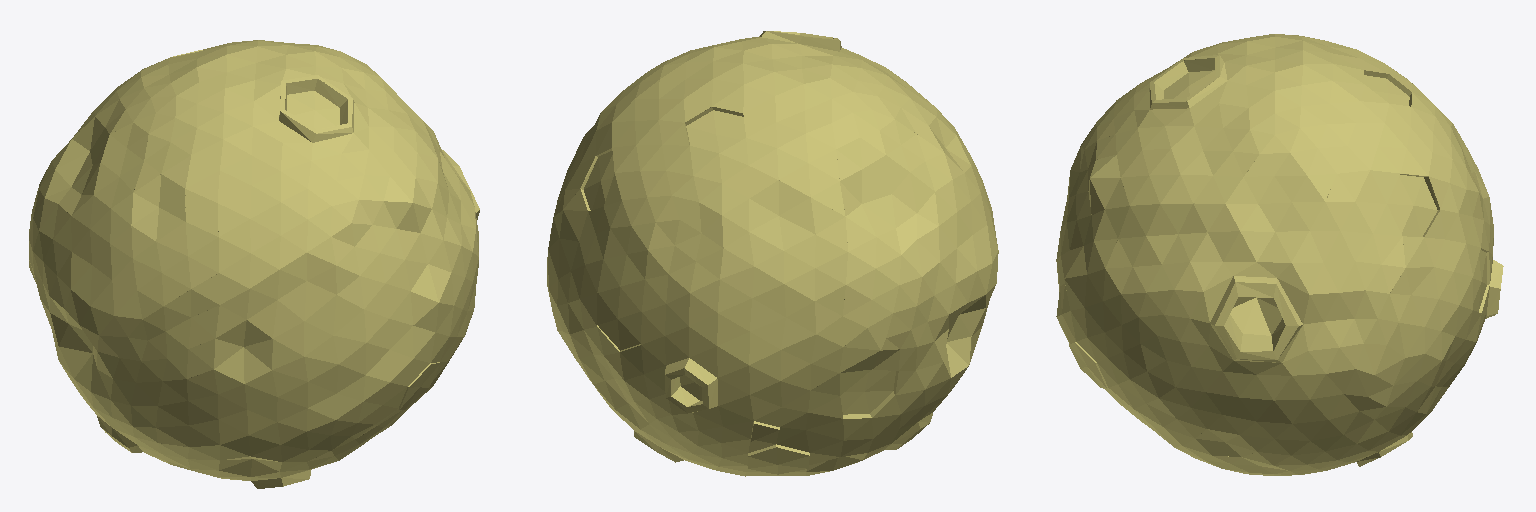
3 renders of one model, left to right at view 1: azimuth 30°, elevation 25°; view 2: azimuth 150°, elevation 25°; view 3: azimuth 270°, elevation 25°, orthographic.
Size of the model in its own units: 315 by 303 by 309.
Materials: 1 (1 with a texture image).